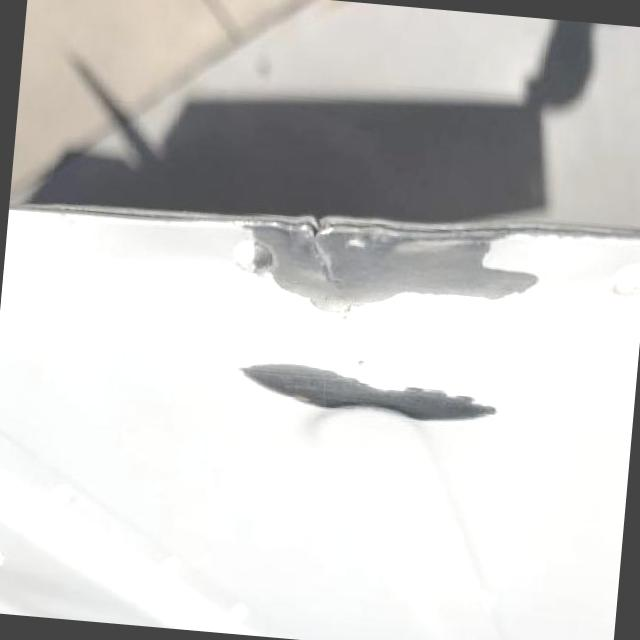crack: (276, 220, 338, 298)
